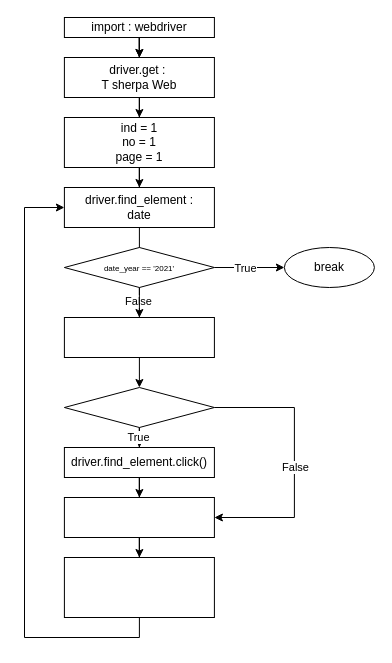
The diagram is 392 pixels wide and 663 high, and some of its shapes have lost their labels. Each missing label, with the box of its shape:
driver.find_element : Plus img: (63, 316, 214, 358)
driver.find_element : title, content, score: (63, 496, 214, 538)
is_displayed(): (63, 386, 214, 428)
list.append([title, content, score, date]) ind += 1: (63, 556, 214, 618)
